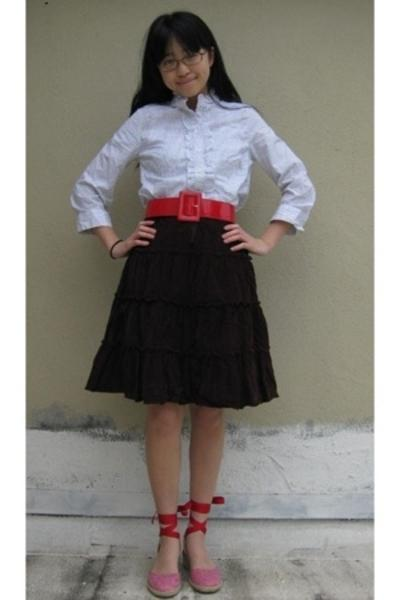shirt: (71, 93, 315, 230)
shoe: (143, 499, 219, 599)
skirt: (85, 216, 278, 409)
